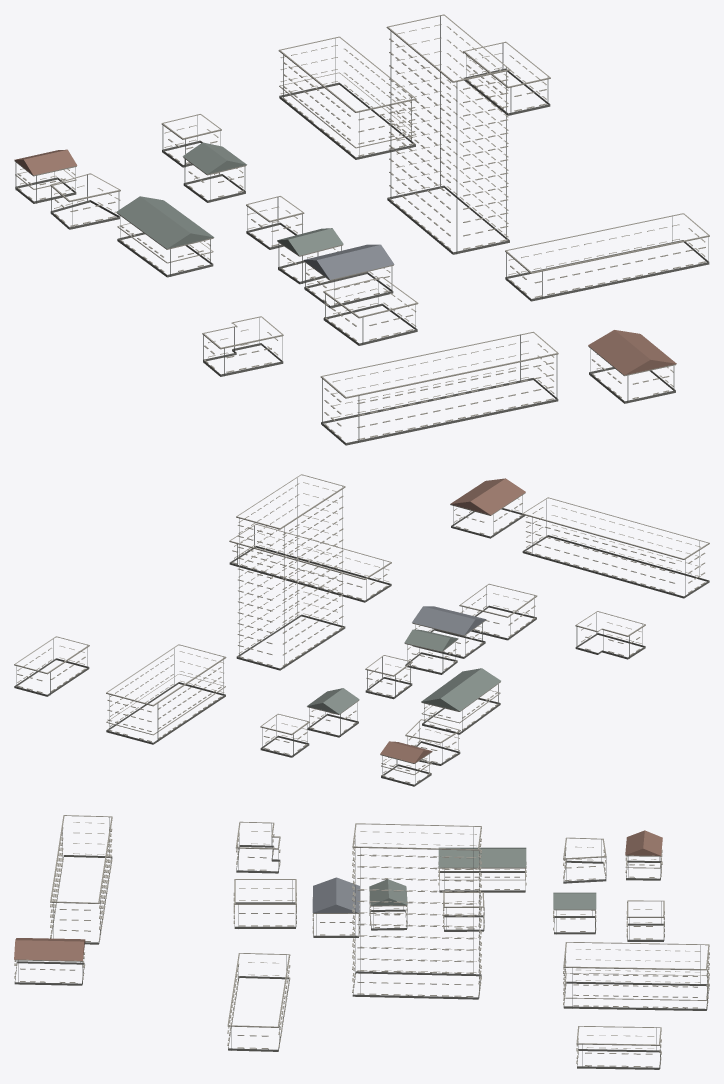
File: district_1_1.glb
The picture shows the model from 3 angles, top to bottom: view 1: azimuth 30°, elevation 25°; view 2: azimuth 150°, elevation 25°; view 3: azimuth 270°, elevation 25°; orthographic projection. The views are drawn at different scales.
Visible parts, largest first — view 1: MasonryTrim, RoofMetal, MetalDetails; view 2: MasonryTrim, RoofMetal, MetalDetails; view 3: MasonryTrim, RoofMetal, MetalDetails.
Part boxes in pixels (box(x1,y1,x2,y2)): MasonryTrim: box(14, 14, 709, 445); RoofMetal: box(14, 142, 676, 375); MetalDetails: box(15, 16, 708, 442); MasonryTrim: box(14, 474, 709, 786); RoofMetal: box(307, 478, 525, 763); MetalDetails: box(16, 478, 699, 785); MasonryTrim: box(14, 815, 709, 1069); RoofMetal: box(14, 830, 662, 960); MetalDetails: box(16, 817, 707, 1068).
Bounding box in the file's own units: 144 × 45 × 189.
